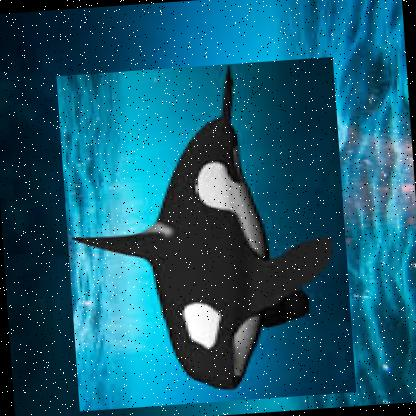killer_whale: (55, 57, 356, 413)
